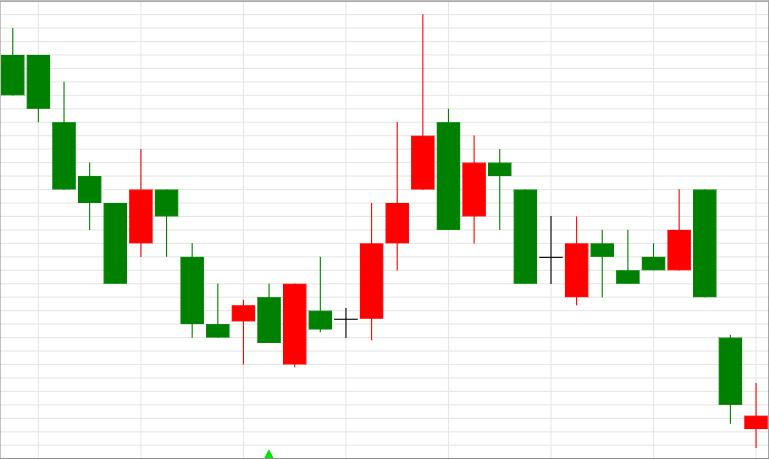bullish_engulfing_rise: (2, 28, 306, 368)
shooting_star_fall: (283, 15, 434, 367)
